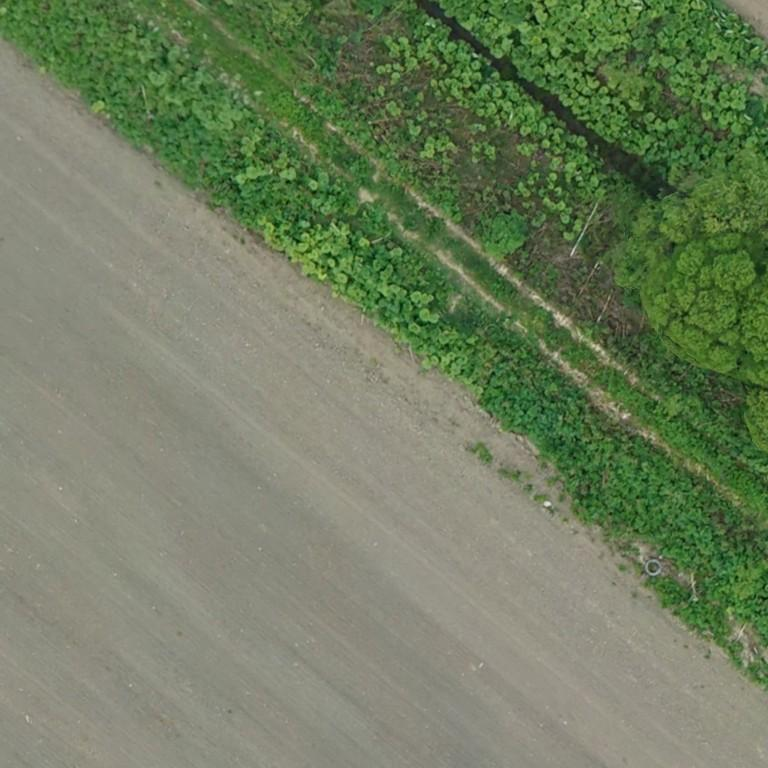hogweed: (483, 345, 767, 642), (657, 579, 739, 661)
